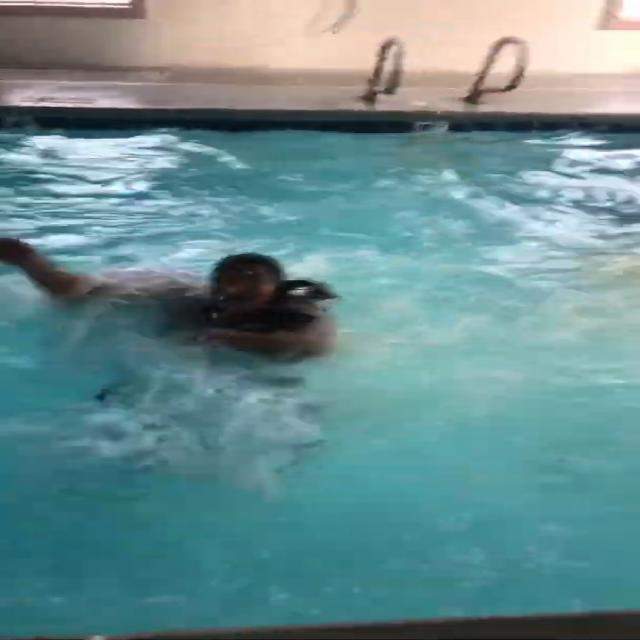Drowning: (0, 234, 348, 361)
